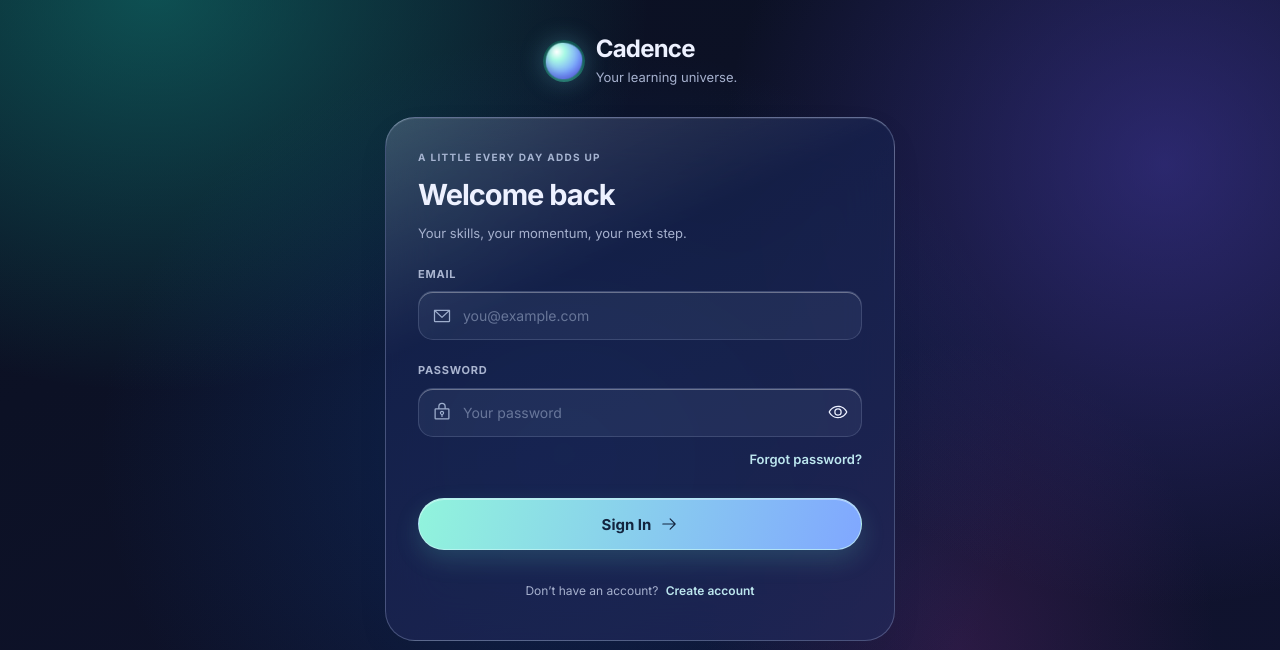
Test: Supabase authentication flows › signs up with name metadata and waits for email confirmation
Expected: the button "Sign In" is shown, [418, 498, 862, 550]
Click the button "Create account".
click(710, 591)  # box [666, 574, 755, 608]
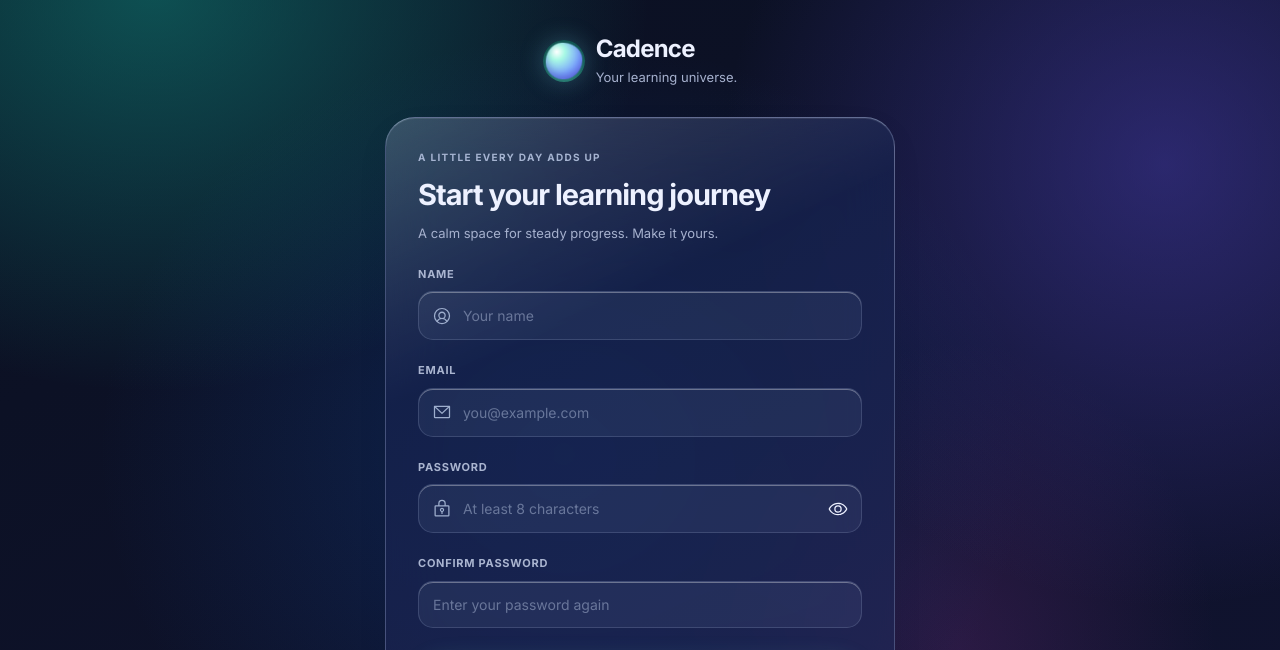
Type "User A" into the field labelled "NAME".
click(640, 316); type("User A")  # box [418, 291, 862, 340]
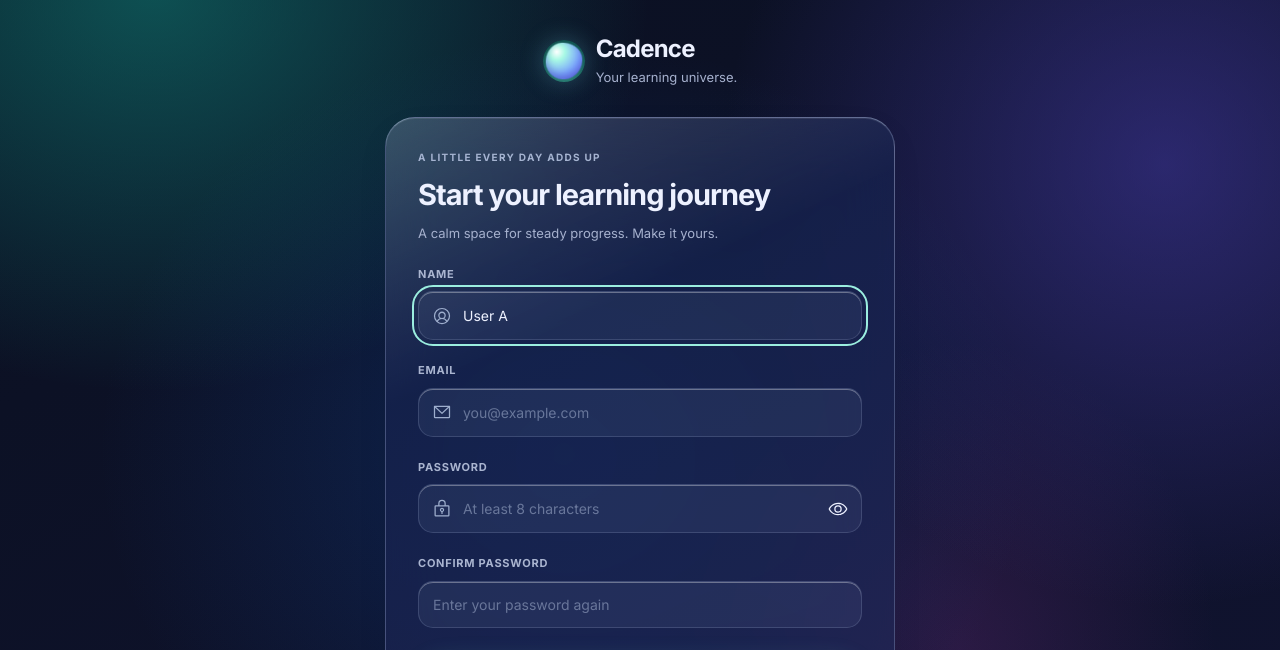
Type "user@example.test" into the field labelled "EMAIL".
click(640, 412); type("user@example.test")  # box [418, 388, 862, 437]
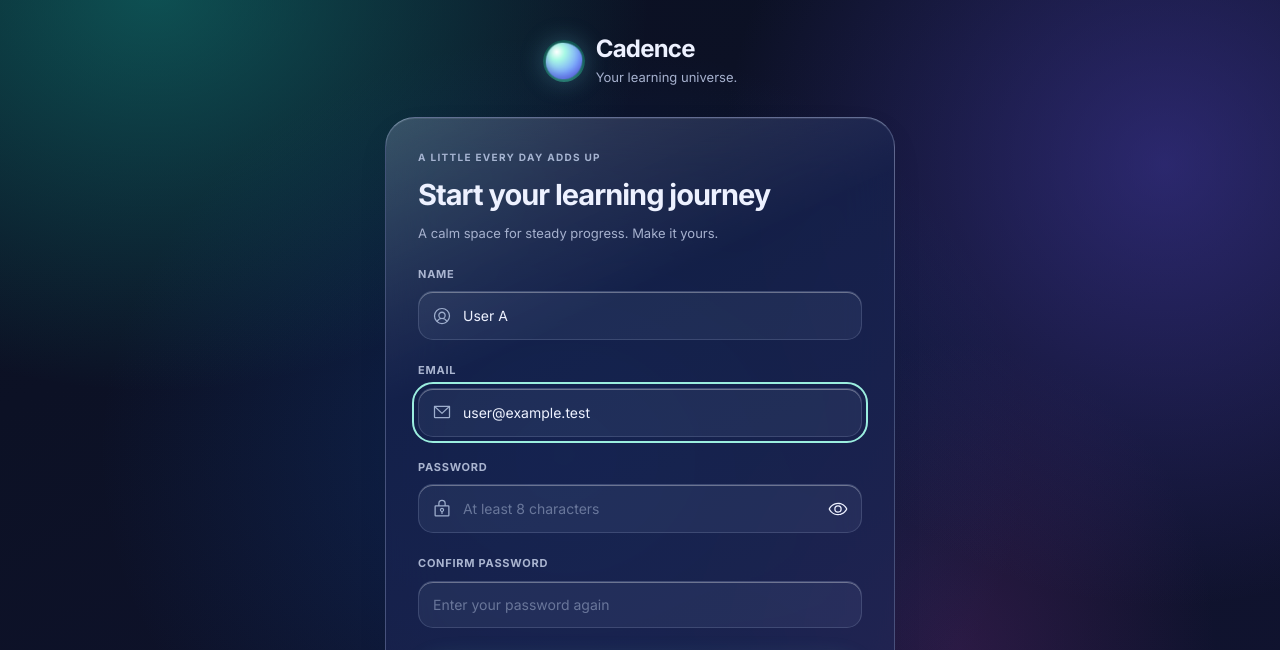
Type "secure-password" into the password field labelled "PASSWORD".
click(640, 509); type("secure-password")  # box [418, 484, 862, 533]
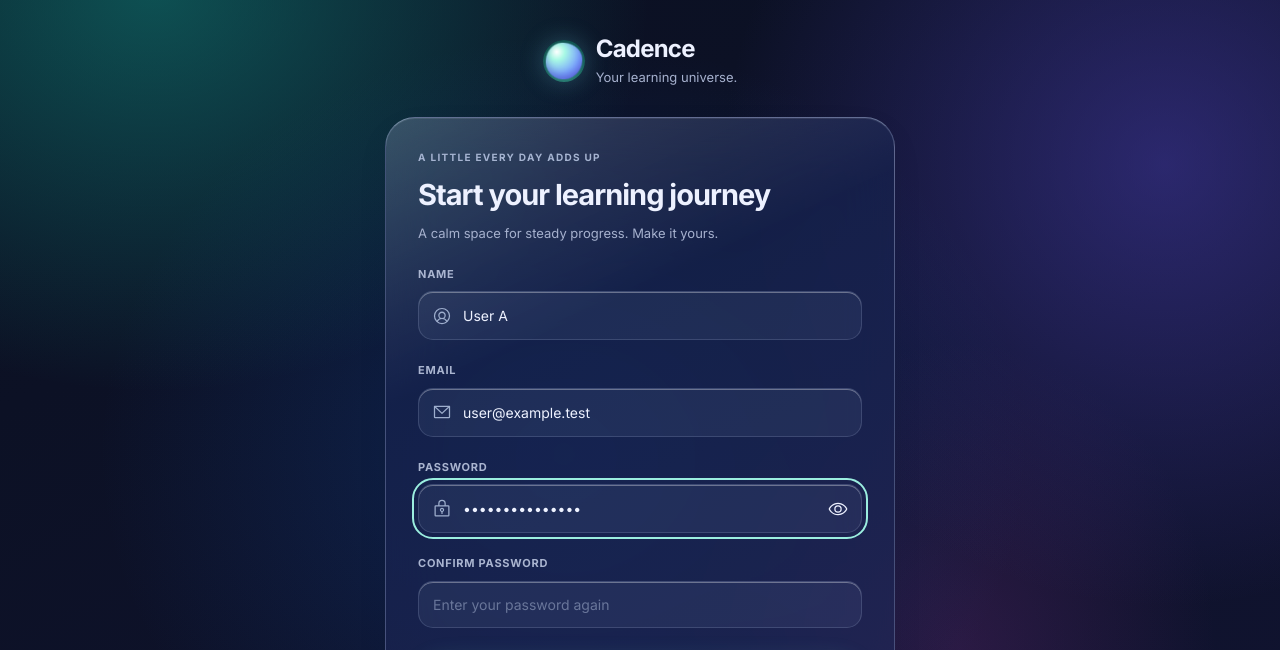
Type "secure-password" into the password field labelled "CONFIRM PASSWORD".
click(640, 604); type("secure-password")  # box [418, 581, 862, 628]
(page scrolled)
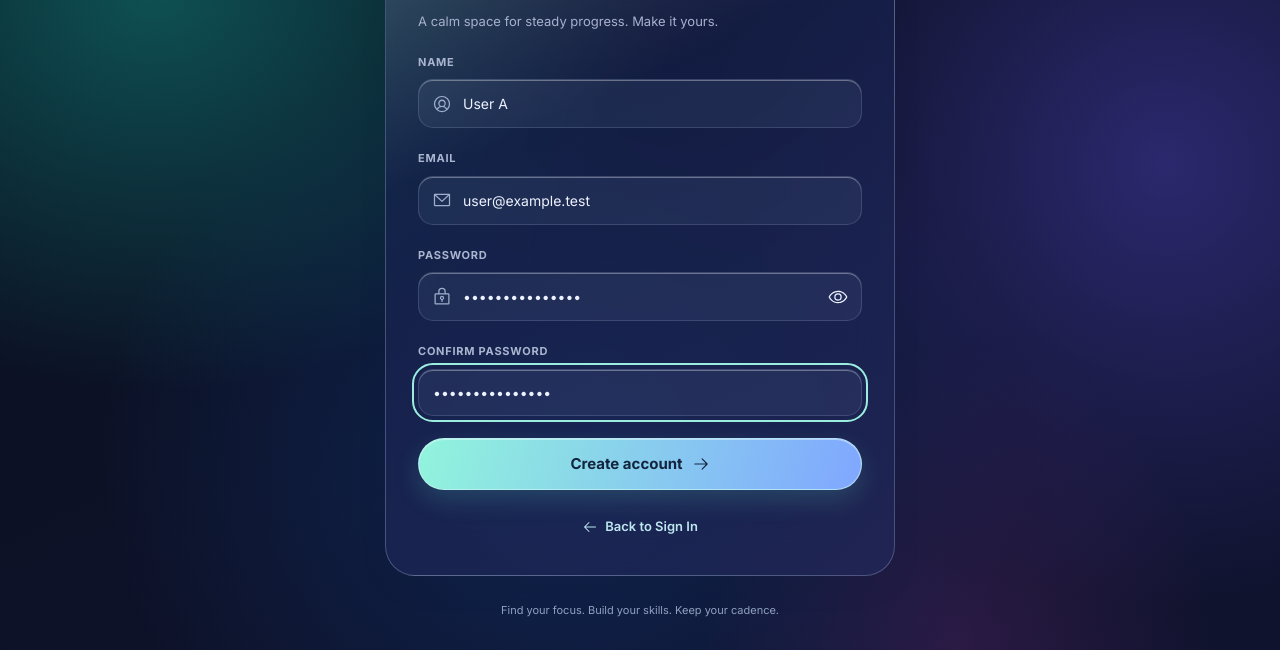
Click the button "Create account".
click(640, 464)  # box [418, 438, 862, 490]
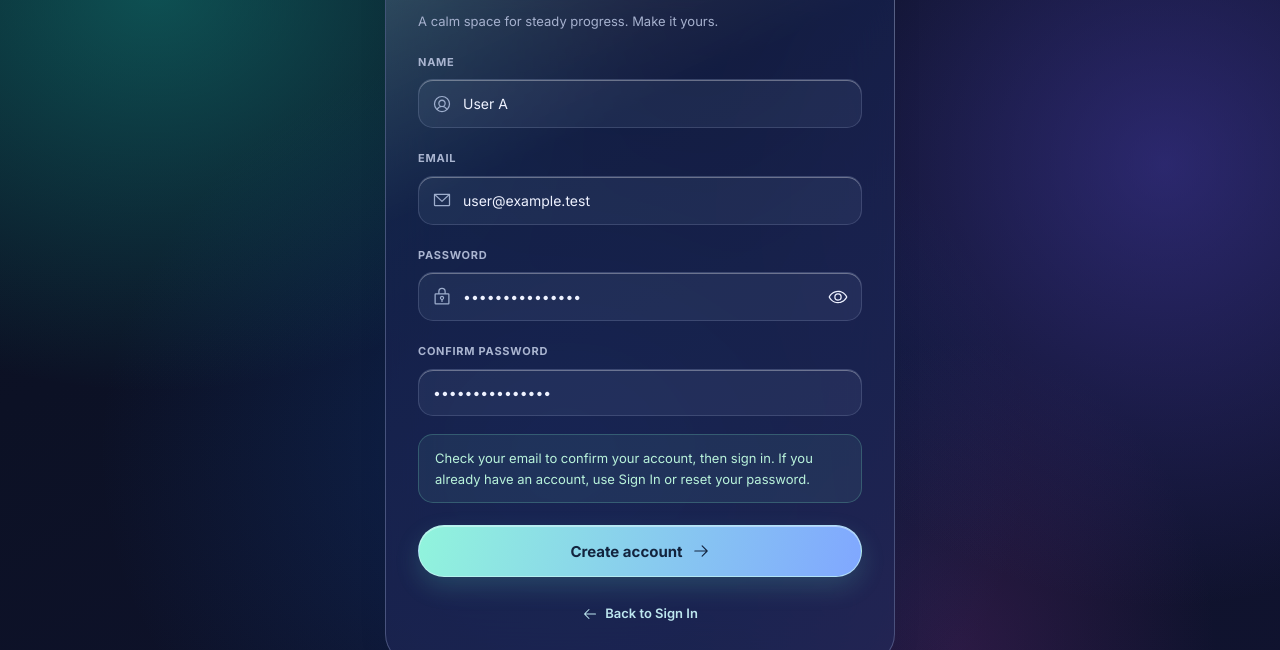
Result: the message shows "Check your email" at [435, 450, 813, 487]
